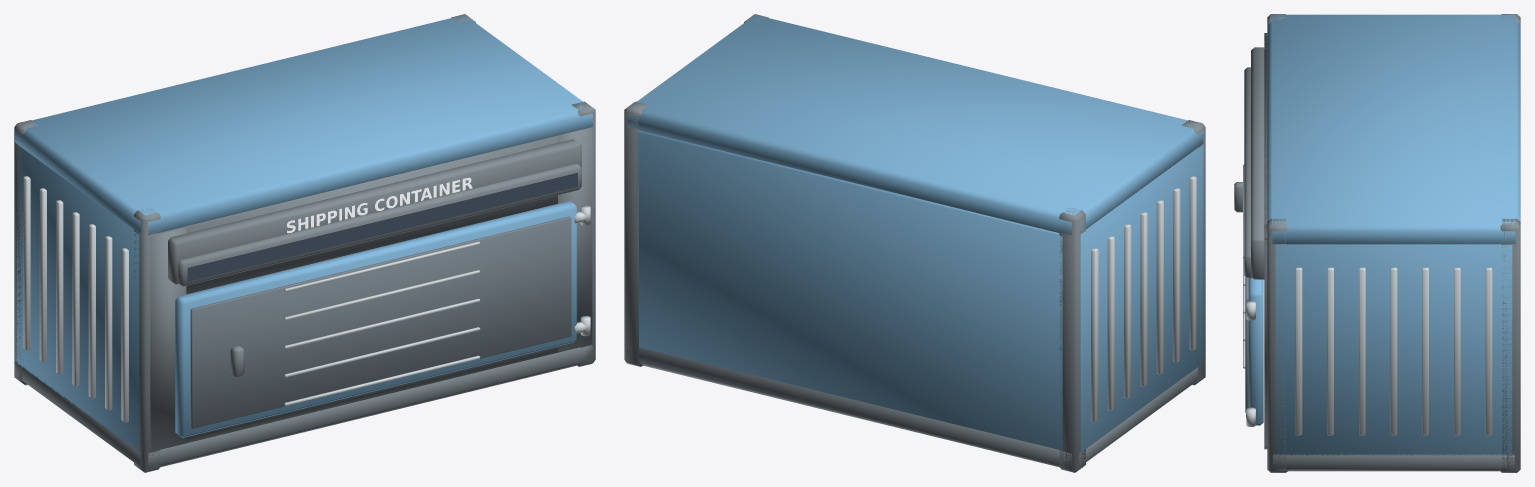
Rendered from shipping_container_standard.glb.
3 views of the same model, side by side, from view 1: azimuth 30°, elevation 25°; view 2: azimuth 150°, elevation 25°; view 3: azimuth 270°, elevation 25° (orthographic). The views are drawn at different scales.
Parts seen in each view (by area): view 1: Roof_blue, DoorMoving_Inset_graphite, SideWall_blue, DoorMoving_Panel_blue, Header_frame, Skid_frame, CargoRib_steel, SealJamb_frame, CornerPost_frame, SealHeader_frame, ResourceNameSurfaceFrame_frame, ResourceNameSurface_glass (+4 smaller); view 2: RearWall_blue, Roof_blue, SideWall_blue, CornerPost_frame, CargoRib_steel, Skid_frame; view 3: Roof_blue, SideWall_blue, CargoRib_steel, CornerPost_frame, Skid_frame, Header_frame, DoorMoving_Panel_blue, ResourceNameSurfaceFrame_frame, SealSideReturn_frame, SealCeilingReturn_frame, SealHeader_frame, DoorMoving_Vent_steel (+3 smaller).
Part boxes in pixels (box(x1,y1,x2,y2)): Roof_blue: box(15, 15, 592, 234); DoorMoving_Inset_graphite: box(190, 216, 571, 428); SideWall_blue: box(16, 145, 139, 452); DoorMoving_Panel_blue: box(175, 201, 577, 437); Header_frame: box(168, 139, 581, 284); Skid_frame: box(15, 345, 592, 467); CargoRib_steel: box(23, 176, 128, 422); SealJamb_frame: box(150, 127, 592, 451); CornerPost_frame: box(14, 14, 595, 472); SealHeader_frame: box(186, 136, 557, 294); ResourceNameSurfaceFrame_frame: box(178, 163, 581, 286); ResourceNameSurface_glass: box(187, 173, 577, 281); RearWall_blue: box(636, 131, 1062, 450); Roof_blue: box(627, 15, 1203, 235); SideWall_blue: box(1080, 145, 1203, 452); CornerPost_frame: box(624, 14, 1205, 472); CargoRib_steel: box(1091, 176, 1196, 422); Skid_frame: box(627, 345, 1197, 467); Roof_blue: box(1267, 14, 1520, 244); SideWall_blue: box(1275, 244, 1512, 455); CargoRib_steel: box(1295, 267, 1492, 435); CornerPost_frame: box(1267, 14, 1520, 472); Skid_frame: box(1272, 454, 1514, 471); Header_frame: box(1251, 47, 1264, 279); DoorMoving_Panel_blue: box(1248, 278, 1263, 425); ResourceNameSurfaceFrame_frame: box(1244, 67, 1252, 278); SealSideReturn_frame: box(1264, 33, 1267, 449); SealCeilingReturn_frame: box(1264, 33, 1267, 243); SealHeader_frame: box(1264, 49, 1267, 224); DoorMoving_Vent_steel: box(1243, 164, 1245, 368).
Bounding box in the file's own units: 2.55 × 1.35 × 1.41.
